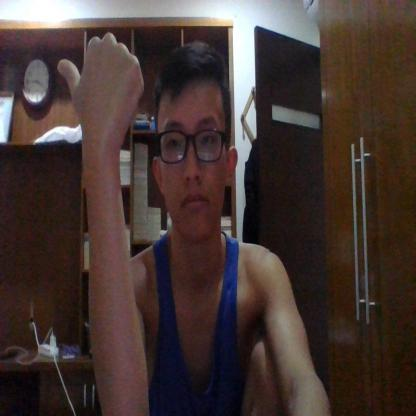right: (57, 31, 146, 156)
